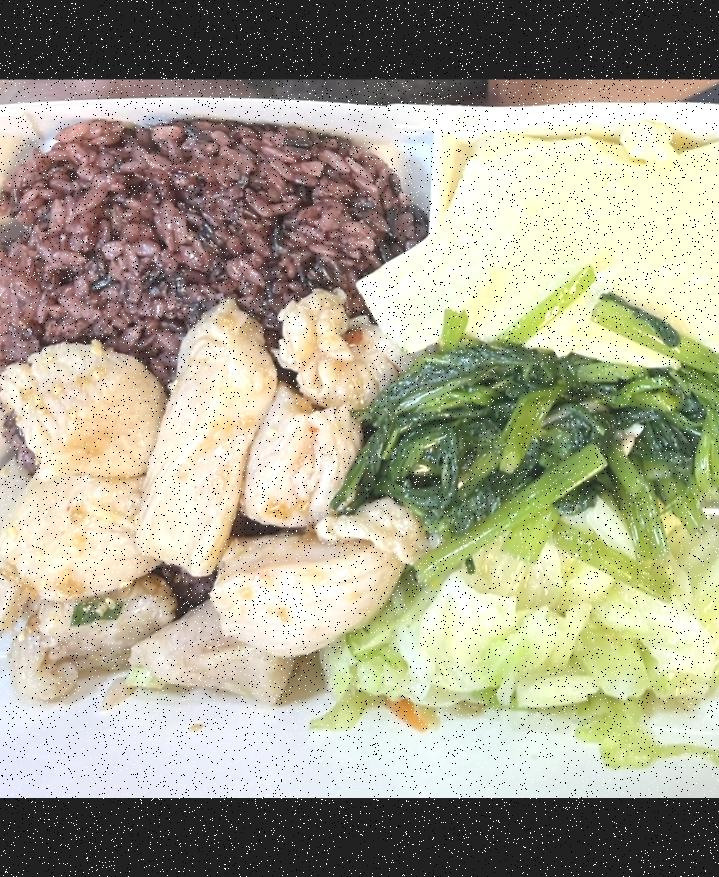big grilled chicken leg: (0, 83, 719, 761)
braised fish: (0, 119, 413, 355)
braised fish fillet: (354, 128, 719, 362), (329, 520, 719, 731), (347, 345, 719, 523)
braised pork: (0, 310, 396, 711)
